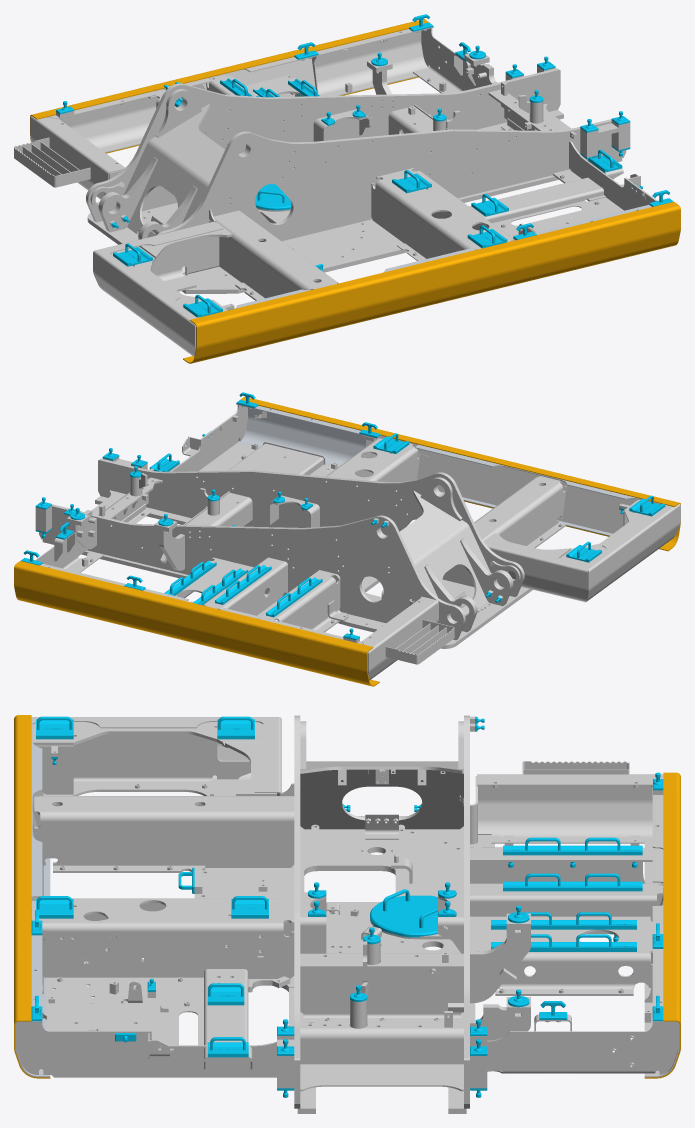
Rendered from komatsu2.glb.
3 views of the same model, one above another, from view 1: azimuth 30°, elevation 25°; view 2: azimuth 150°, elevation 25°; view 3: azimuth 270°, elevation 25° (orthographic). The views are drawn at different scales.
Visible parts, largest first — view 1: 204-46-72A20_AF5_1, PROTEO-LATERAL-100, 204-46-71A61_AF0_1, 204-46-71C70_1, 203-46-12A81_1, 204-46-72A10_1, 203-46-12A50_1, 203-46-17A50_AF5_1, 20Y-46-42A21_KI_1, 203-46-13A61_1, PROTEO-LATERAL-200, 203-46-12A30_1 (+20 smaller); view 2: 204-46-71A61_AF0_1, PROTEO-LATERAL-200, 204-46-72A20_AF5_1, 203-46-12A60_1, 204-46-71B61_1, 203-46-17A50_AF5_1, 203-46-12A50_1, 20Y-46-42A21_KI_1, 203-46-12B31_1, PROTEO-LATERAL-100, 203-46-12A81_1, 204-46-71C90_PLAN2_1 (+22 smaller); view 3: 203-46-12A81_1, 203-46-12A50_1, 204-46-72A10_1, 203-46-13A61_1, 204-46-71D10_1, 20Y-46-42C21_1, 204-46-71B10_1, 203-46-11A80_1, 203-46-17A50_AF5_1, 204-46-71B21_1, 204-46-B2A30_1, PROTEO-LATERAL-100 (+34 smaller).
Part boxes in pixels (bbox=[...]): 204-46-72A20_AF5_1: bbox=[156, 119, 626, 241]; PROTEO-LATERAL-100: bbox=[183, 201, 680, 363]; 204-46-71A61_AF0_1: bbox=[86, 68, 560, 222]; 204-46-71C70_1: bbox=[47, 26, 433, 152]; 203-46-12A81_1: bbox=[371, 168, 514, 258]; 204-46-72A10_1: bbox=[87, 202, 408, 293]; 203-46-12A50_1: bbox=[209, 210, 338, 298]; 203-46-17A50_AF5_1: bbox=[124, 104, 224, 237]; 20Y-46-42A21_KI_1: bbox=[93, 250, 198, 356]; 203-46-13A61_1: bbox=[30, 116, 125, 199]; PROTEO-LATERAL-200: bbox=[30, 19, 429, 153]; 203-46-12A30_1: bbox=[151, 236, 219, 291]; 204-46-71A61_AF0_1: bbox=[39, 504, 465, 640]; PROTEO-LATERAL-200: bbox=[14, 561, 379, 686]; 204-46-72A20_AF5_1: bbox=[98, 458, 524, 596]; 203-46-12A60_1: bbox=[365, 436, 637, 533]; 204-46-71B61_1: bbox=[236, 403, 660, 536]; 203-46-17A50_AF5_1: bbox=[399, 491, 490, 613]; 203-46-12A50_1: bbox=[474, 476, 566, 545]; 20Y-46-42A21_KI_1: bbox=[584, 504, 680, 601]; 203-46-12B31_1: bbox=[484, 537, 588, 602]; PROTEO-LATERAL-100: bbox=[240, 396, 680, 551]; 203-46-12A81_1: bbox=[326, 438, 420, 481]; 204-46-71C90_PLAN2_1: bbox=[257, 570, 348, 632]; 203-46-12A81_1: bbox=[31, 898, 294, 978]; 203-46-12A50_1: bbox=[32, 796, 294, 867]; 204-46-72A10_1: bbox=[194, 816, 494, 992]; 203-46-13A61_1: bbox=[477, 774, 663, 843]; 204-46-71D10_1: bbox=[16, 1023, 276, 1077]; 20Y-46-42C21_1: bbox=[43, 734, 250, 795]; 204-46-71B10_1: bbox=[470, 916, 652, 995]; 203-46-11A80_1: bbox=[300, 965, 463, 1023]; 203-46-17A50_AF5_1: bbox=[300, 761, 463, 829]; 204-46-71B21_1: bbox=[487, 1023, 678, 1074]; 204-46-B2A30_1: bbox=[300, 1020, 463, 1064]; PROTEO-LATERAL-100: bbox=[14, 715, 50, 1078].
Size of the model in its own units: 2.99 by 0.6419 by 2.48.
